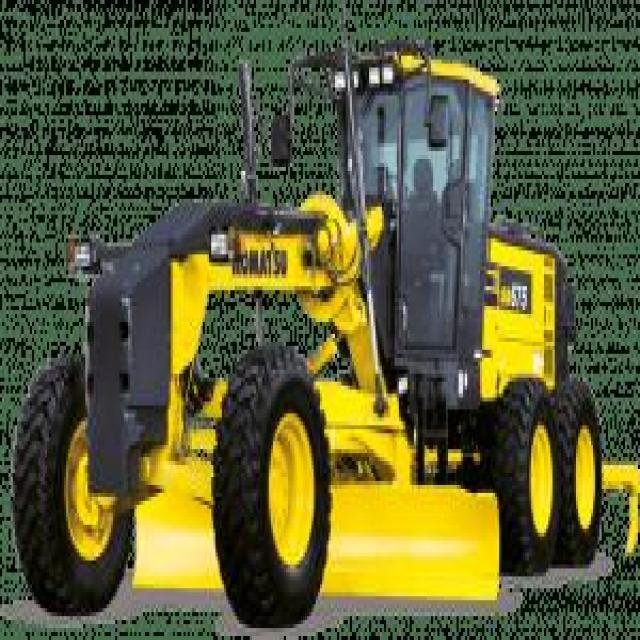Grader: (19, 4, 614, 636)
